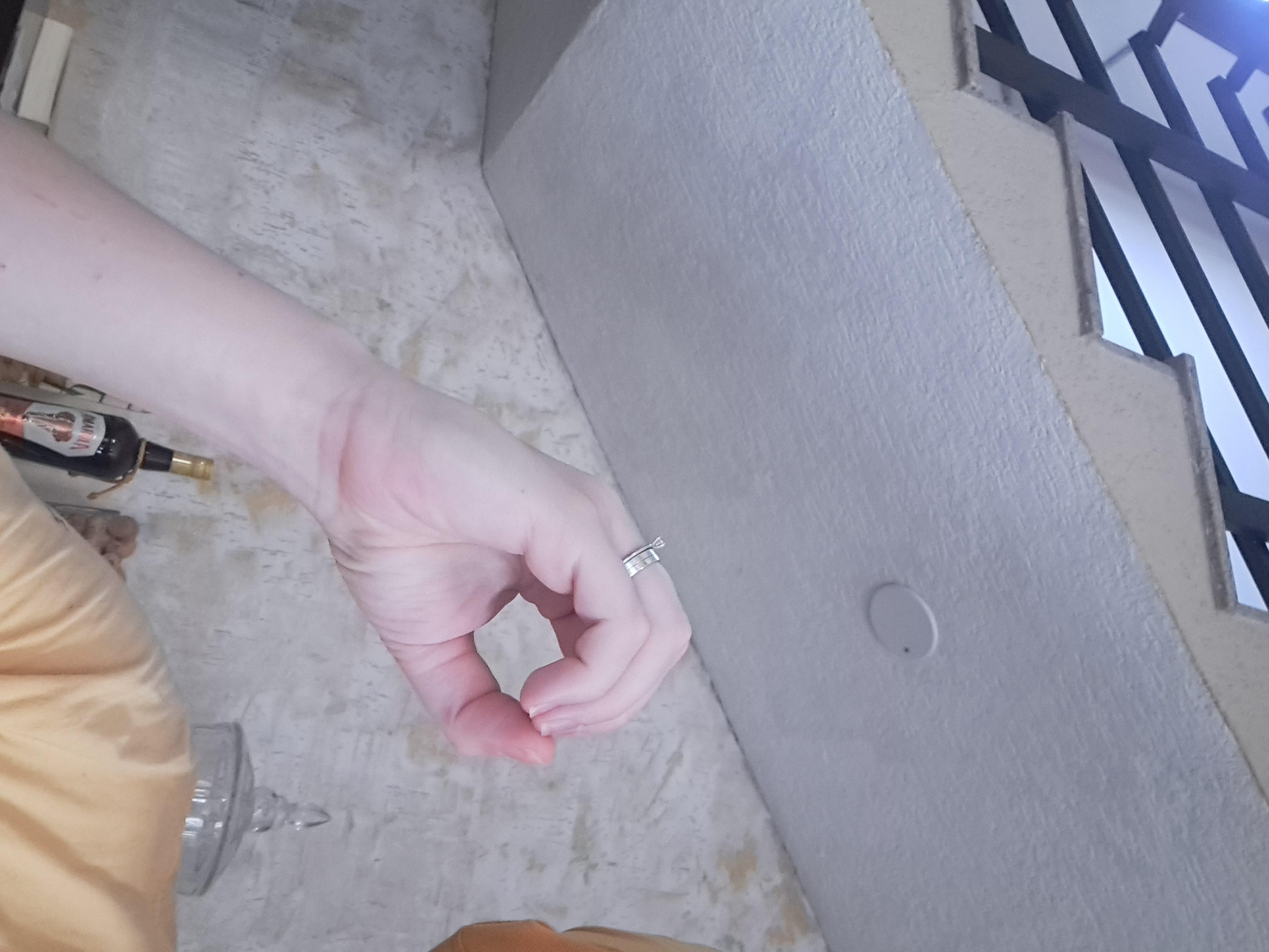O: (513, 432, 1026, 720)
